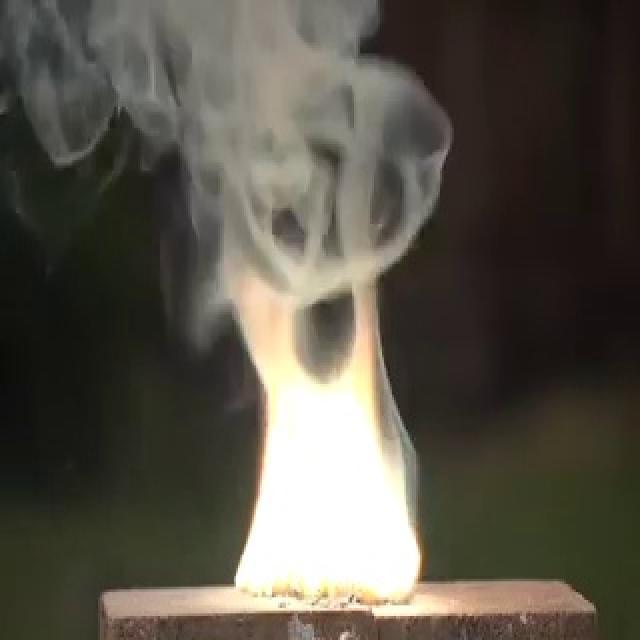Fire: (216, 258, 422, 608)
